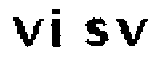i: (49, 4, 69, 49)
s: (80, 14, 110, 50)
v: (7, 14, 45, 48), (114, 14, 150, 49)
